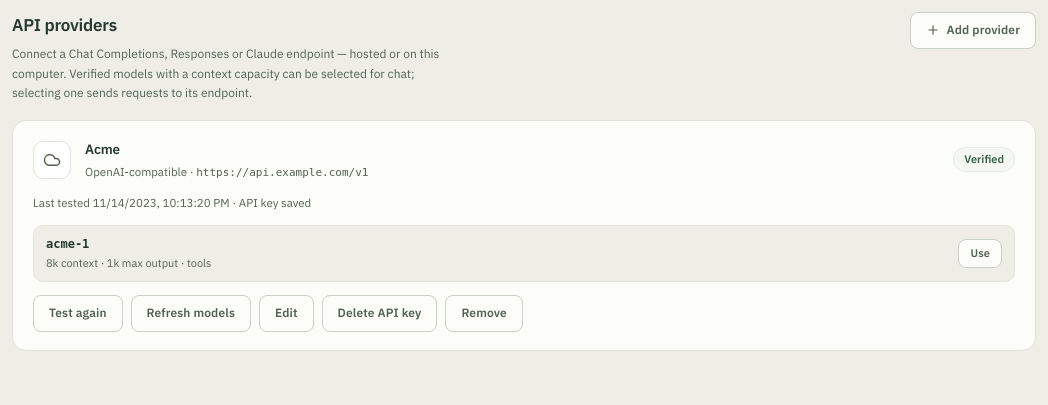
Scenario: refreshes discovered models through the native list command
Click the button "Refresh models": (191, 314) [131,295,251,332]
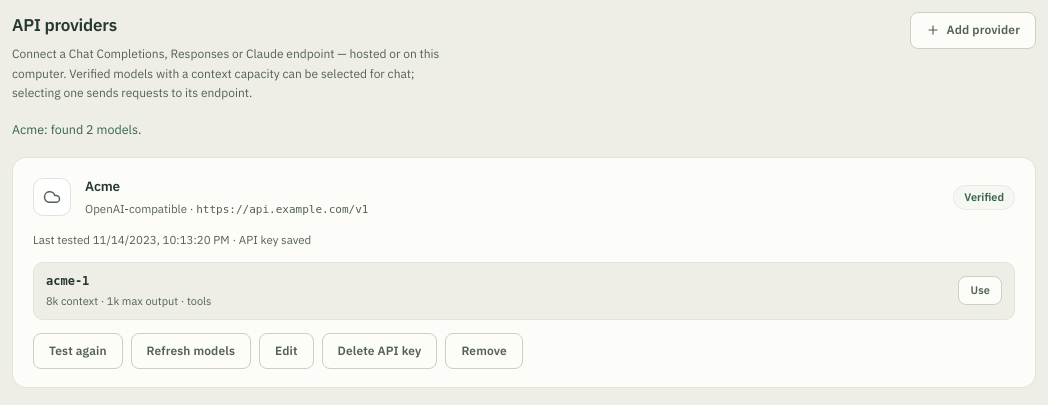
expect the message shows "found 2 models": met, box [12,121,141,137]
